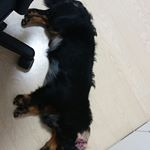puppy: (8, 1, 101, 150)
